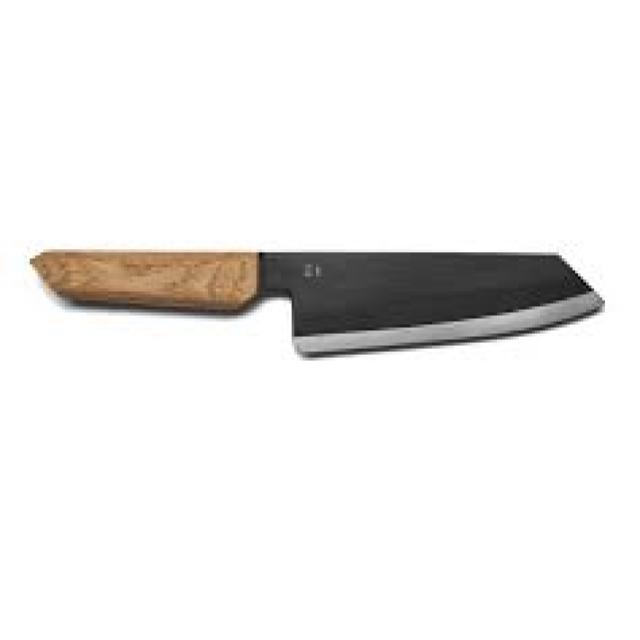knives: (24, 240, 608, 364)
